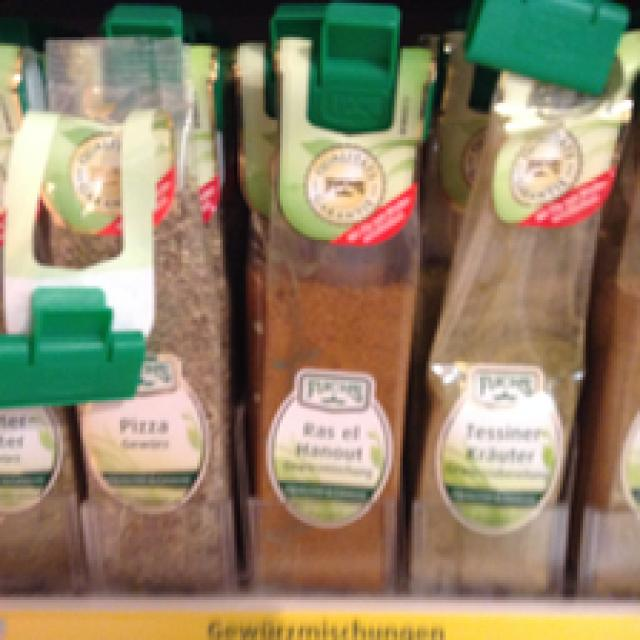groceries: (428, 31, 628, 586), (40, 34, 237, 586), (257, 31, 429, 583)
